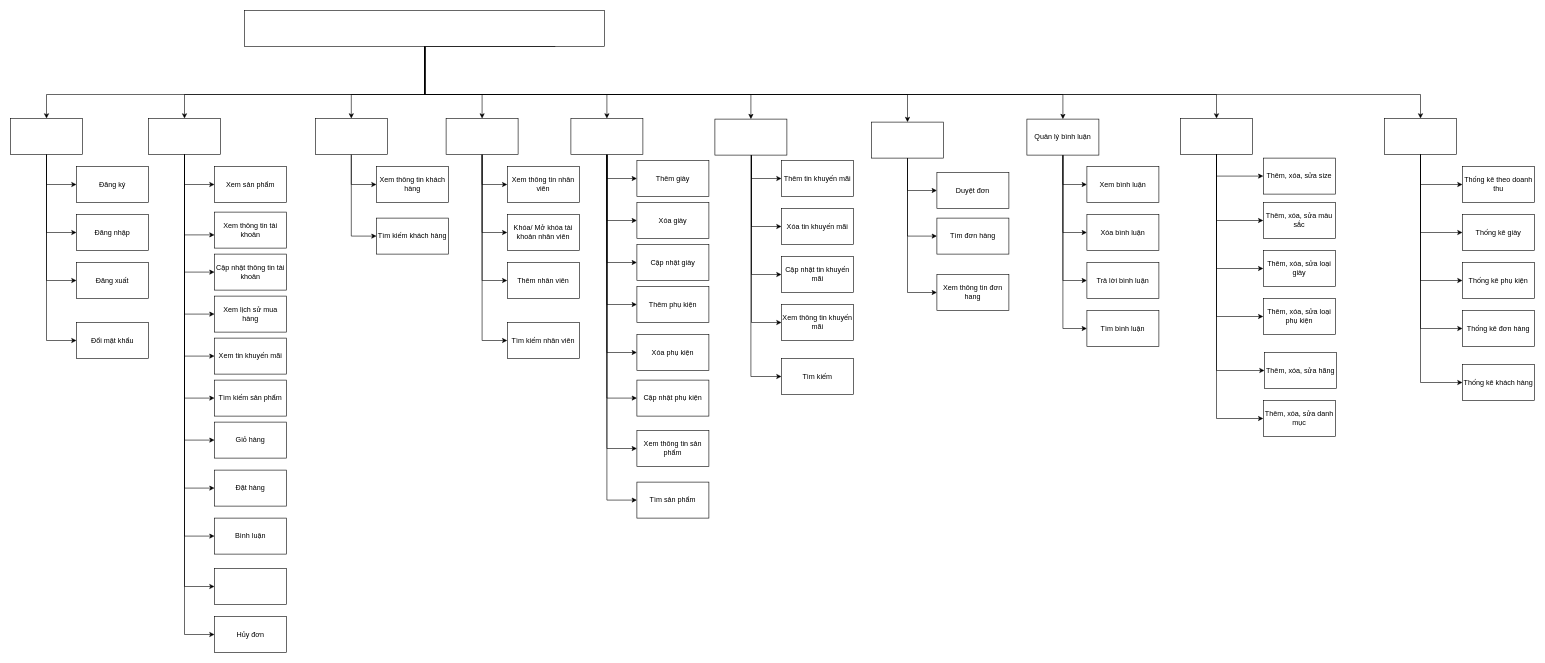
The diagram is 1545 pixels wide and 663 high, and some of its shapes have lost their labels. The shapes that lost their labels are listed below. From the top down, each one's centre as x and y in pixels, then its label:
At point (424, 28): "Website bán giày thể thao".
At point (46, 136): "Hệ thống".
At point (184, 136): "Mua hàng online".
At point (351, 136): "Quản lý khách hàng".
At point (482, 136): "Quản lý nhân viên".
At point (606, 136): "Quản lý sản phẩm".
At point (750, 136): "Quản lý khuyến mãi".
At point (907, 140): "Quản lý đơn hàng".
At point (1216, 136): "Quản lý danh mục".
At point (1420, 136): "Thống kê".
At point (250, 586): "Tra cứu đơn hàng khách vãng lai".
